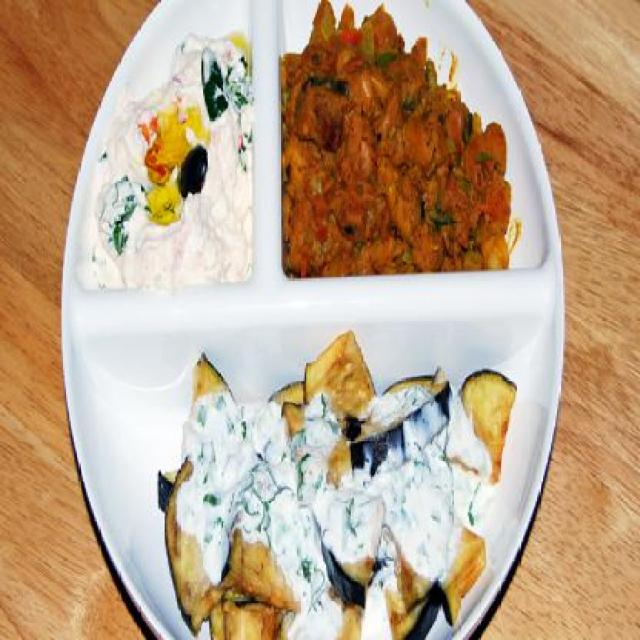eggplant: (136, 348, 513, 638), (278, 3, 520, 277)
hummus: (179, 390, 495, 638), (82, 29, 258, 286)
